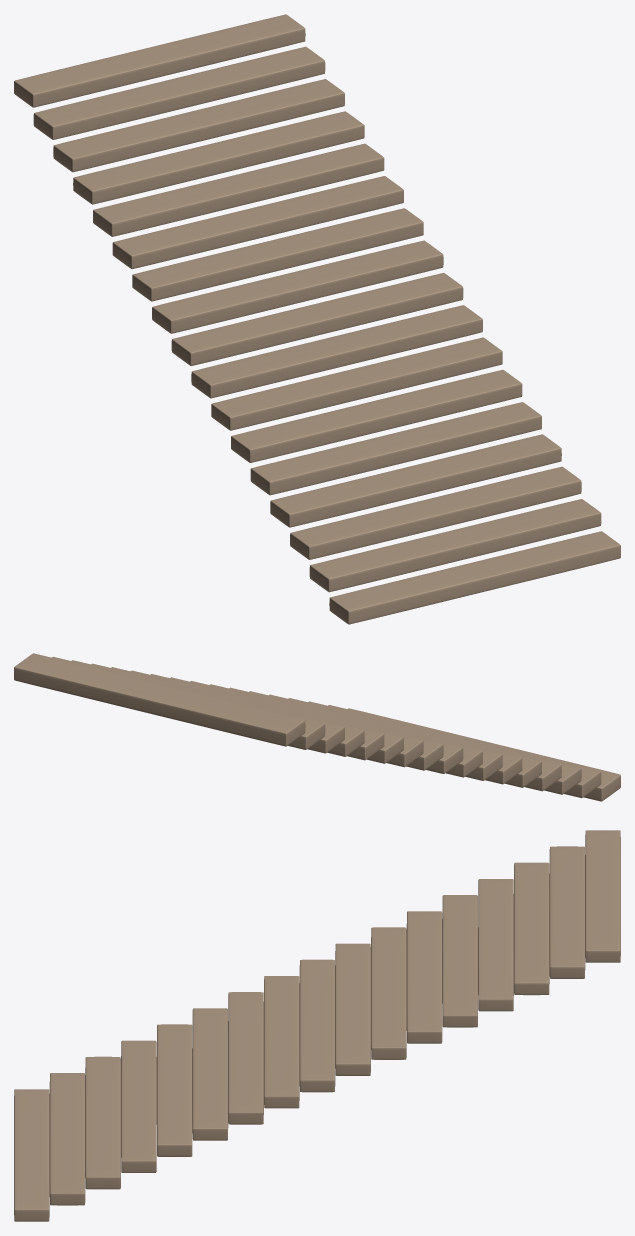
File: Stairs1.fbx
3 views of the same model, one above another, from view 1: azimuth 30°, elevation 25°; view 2: azimuth 150°, elevation 25°; view 3: azimuth 270°, elevation 25° (orthographic). The views are drawn at different scales.
Visible parts, largest first — view 1: Stairs; view 2: Stairs; view 3: Stairs.
Boxes of the visible parts, x1,y1,x2,y2 form: Stairs: (14, 14, 620, 624); Stairs: (14, 653, 620, 801); Stairs: (14, 830, 620, 1221).
Bounding box in the file's own units: 8 × 8.4 × 17.
